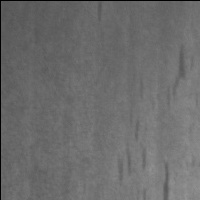inclusion: (115, 114, 151, 200), (160, 40, 199, 113), (126, 98, 145, 144), (157, 158, 177, 200), (94, 2, 107, 26)
